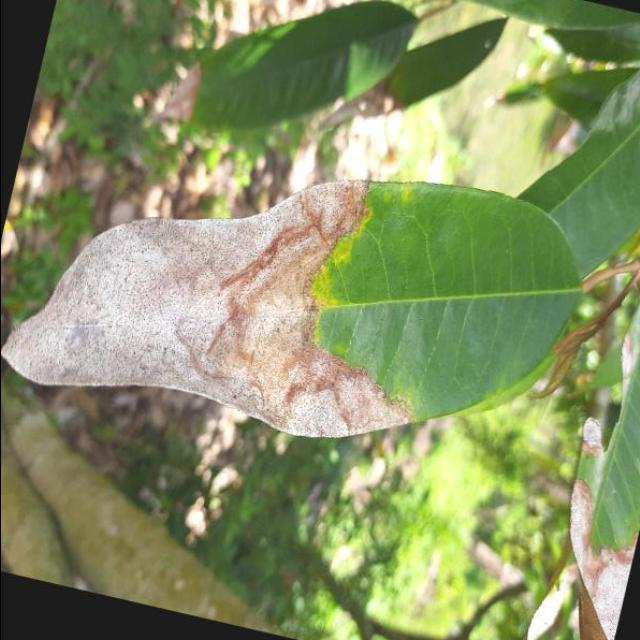Leaf Blight: (0, 83, 606, 504)
